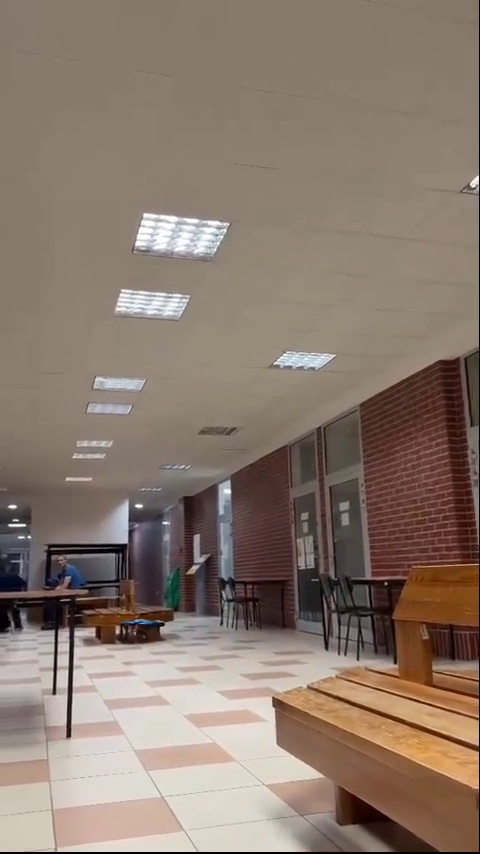drone: (120, 614, 167, 637)
no vest: (48, 548, 87, 614)
